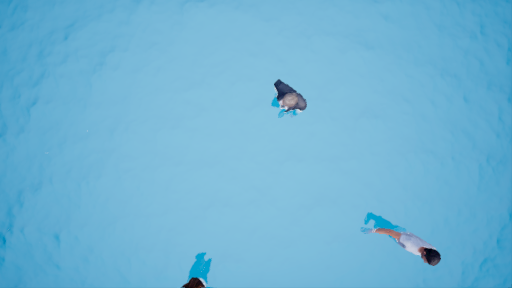person: (348, 197, 449, 269), (267, 69, 315, 128), (177, 249, 219, 288)
